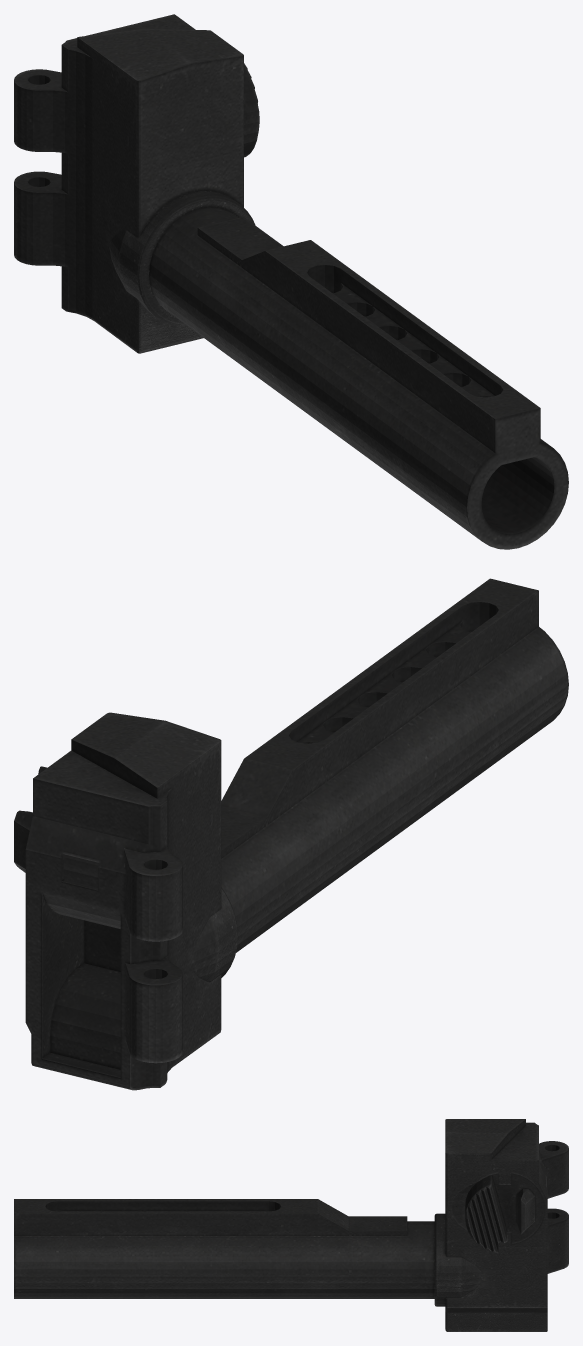
3 renders of one model, top to bottom at view 1: azimuth 30°, elevation 25°; view 2: azimuth 150°, elevation 25°; view 3: azimuth 270°, elevation 25°, orthographic. The views are drawn at different scales.
Visible parts, largest first — view 1: TW_6706a159c67236b2f703bb95_PZ_Import; view 2: TW_6706a159c67236b2f703bb95_PZ_Import; view 3: TW_6706a159c67236b2f703bb95_PZ_Import.
Part boxes in pixels (left/top/right/bottom): TW_6706a159c67236b2f703bb95_PZ_Import: left=14, top=14, right=568, bottom=549; TW_6706a159c67236b2f703bb95_PZ_Import: left=14, top=578, right=568, bottom=1090; TW_6706a159c67236b2f703bb95_PZ_Import: left=14, top=1119, right=568, bottom=1331.
Size of the model in its own units: 0.0294 by 0.1195 by 0.0438.
Materials: 1 (1 with a texture image).
